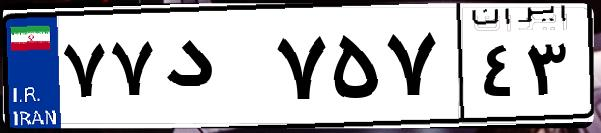3: (525, 38, 570, 115)
4: (475, 38, 525, 113)
5: (330, 28, 385, 110)
7: (270, 28, 330, 110), (385, 28, 445, 110), (57, 26, 110, 100), (110, 28, 158, 98)
د: (158, 20, 270, 120)
